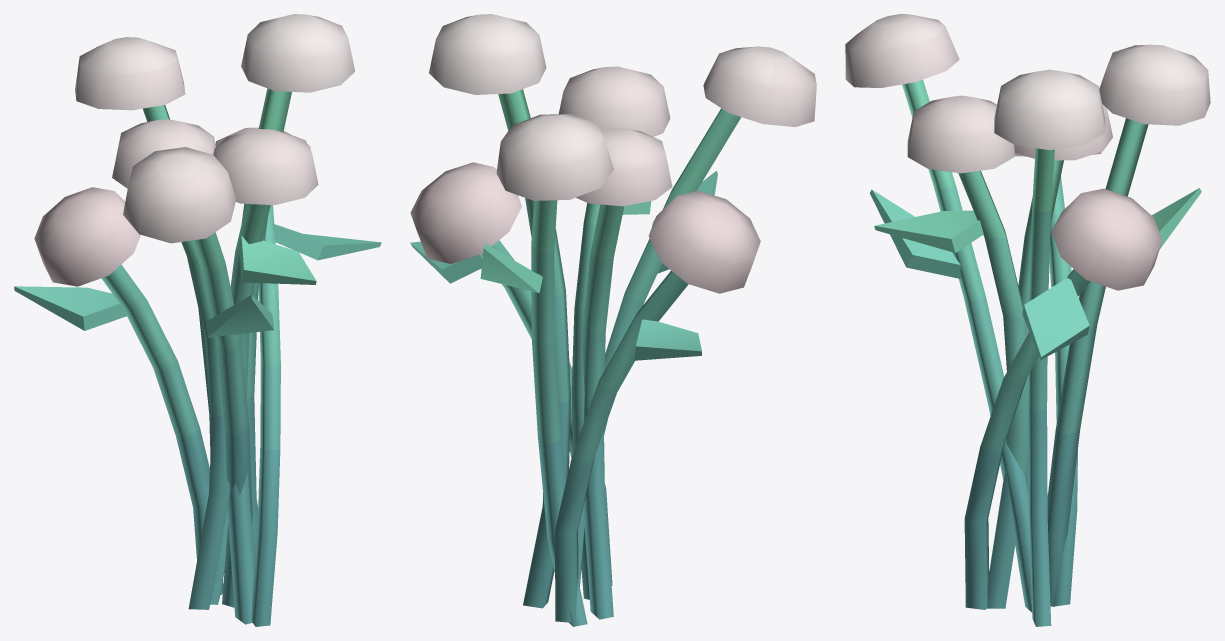
The model's file is dandelion_white.glb.
The picture shows the model from 3 angles, left to right: view 1: azimuth 30°, elevation 25°; view 2: azimuth 150°, elevation 25°; view 3: azimuth 270°, elevation 25°; orthographic projection. The views are drawn at different scales.
Parts seen in each view (by area): view 1: Dandelion_White.001; view 2: Dandelion_White.001; view 3: Dandelion_White.001.
Boxes of the visible parts, bbox=[...] form: Dandelion_White.001: bbox=[14, 14, 381, 626]; Dandelion_White.001: bbox=[410, 14, 816, 626]; Dandelion_White.001: bbox=[845, 14, 1210, 626].
Size of the model in its own units: 0.2356 by 0.3738 by 0.2183.
